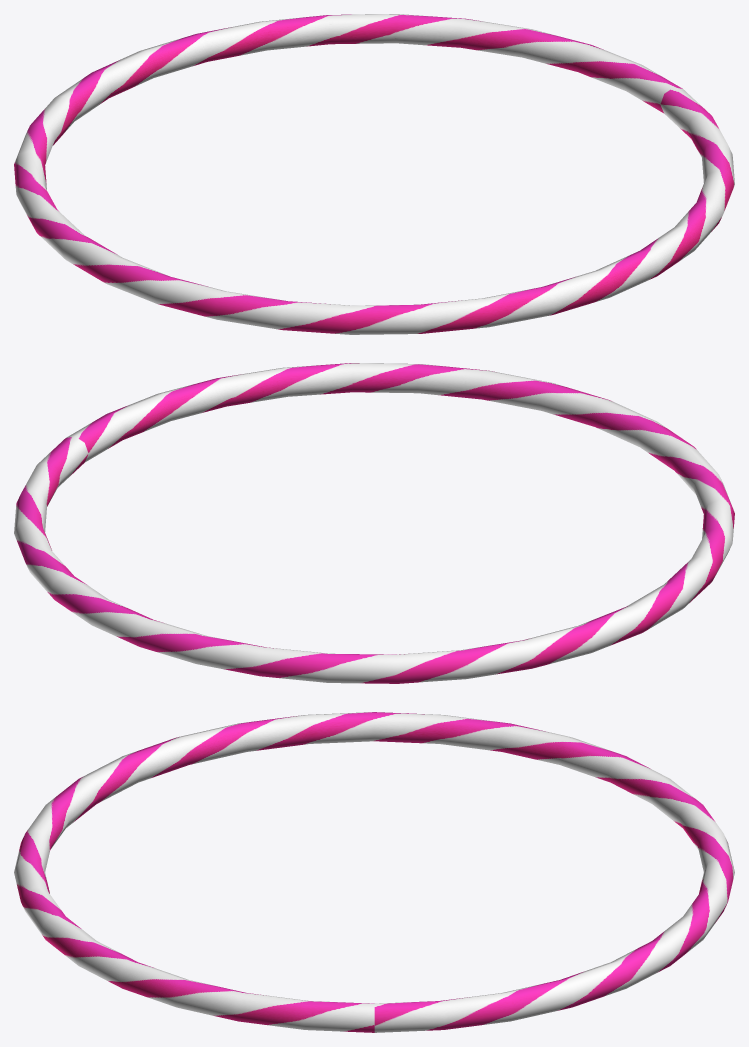
Rendered from hoolaHoop.fbx.
3 renders of one model, top to bottom at view 1: azimuth 30°, elevation 25°; view 2: azimuth 150°, elevation 25°; view 3: azimuth 270°, elevation 25°, orthographic.
Visible parts, largest first — view 1: hoolaHoop; view 2: hoolaHoop; view 3: hoolaHoop.
Boxes of the visible parts, box(x1,y1,x2,y2) form: hoolaHoop: box(14, 14, 734, 334); hoolaHoop: box(14, 363, 734, 683); hoolaHoop: box(14, 712, 734, 1032).
Bounding box in the file's own units: 0.2404 × 0.0104 × 0.2404.
